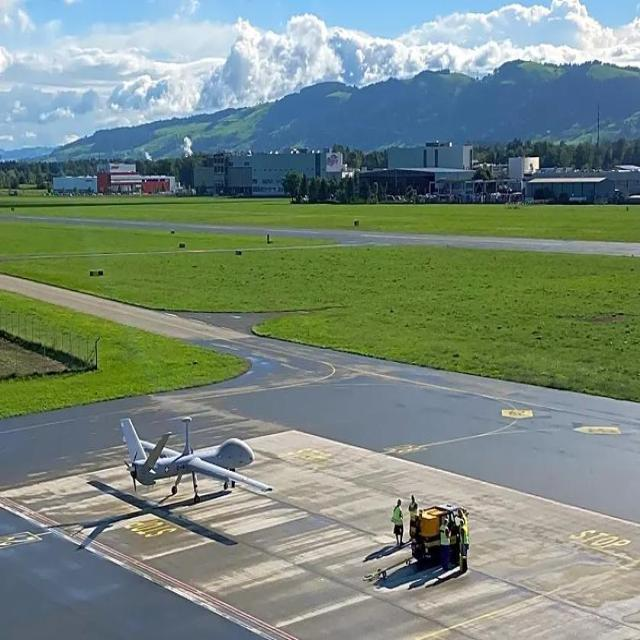iha: (115, 444, 279, 481)
